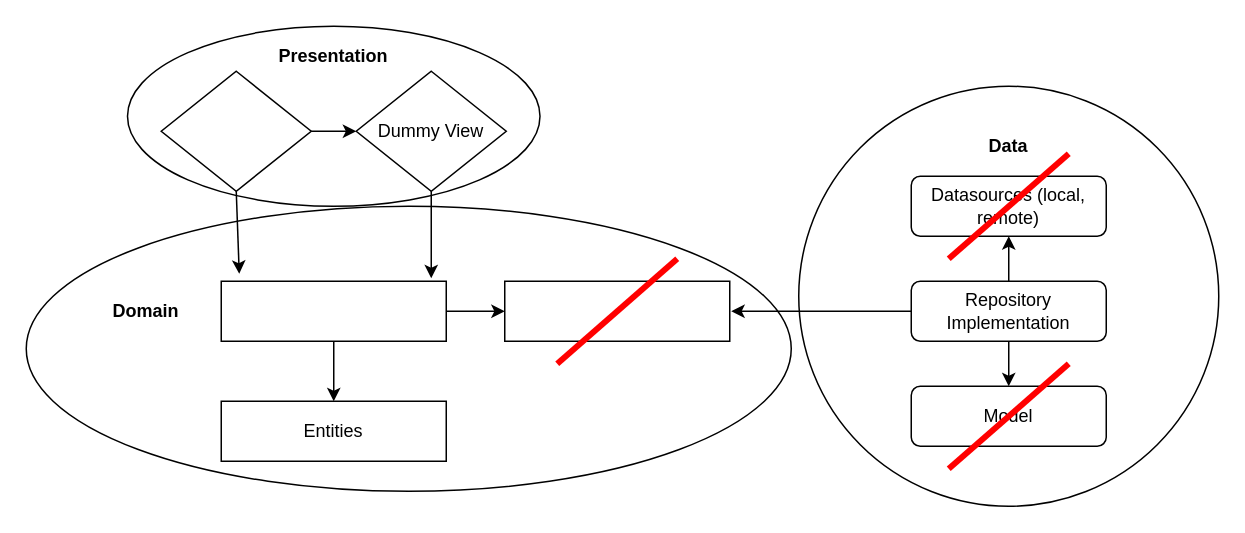
Some shapes in this 1245 by 533 pixel diagram are drawn without their labels. The centre of each missing label's shape, as x and y in pixels:
"Repositoy Interface" belongs at pixel 616 310.
"Smart View" belongs at pixel 235 130.
"Usecase" belongs at pixel 333 310.
